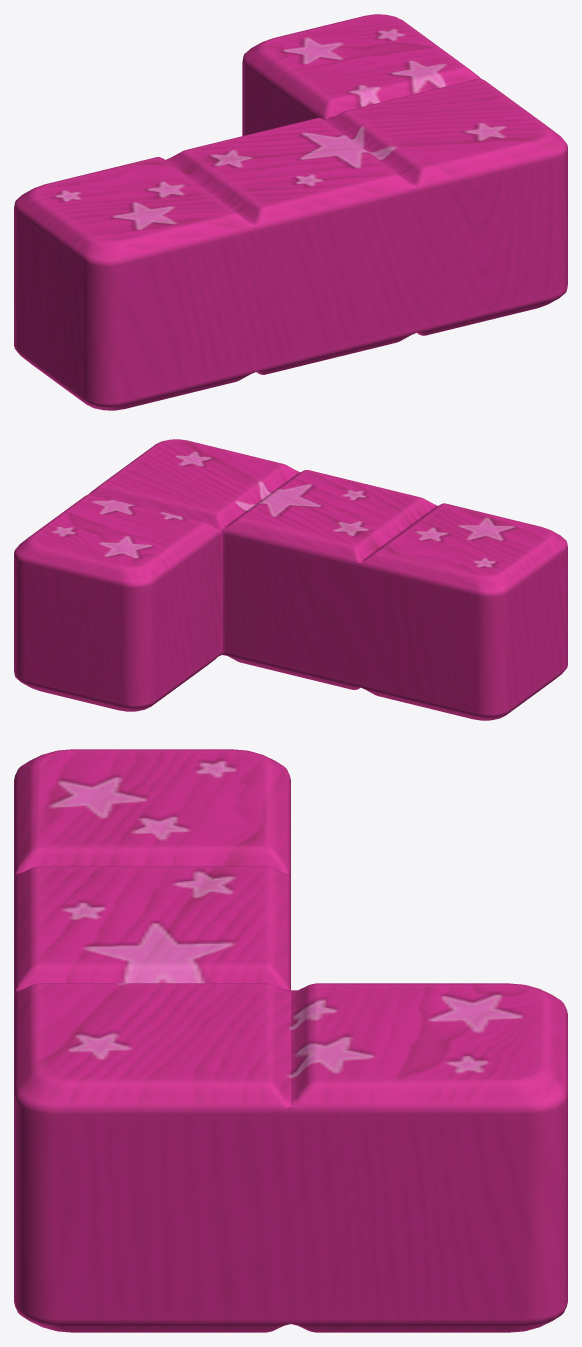
Rendered from Star_Block_06.fbx.
3 views of the same model, one above another, from view 1: azimuth 30°, elevation 25°; view 2: azimuth 150°, elevation 25°; view 3: azimuth 270°, elevation 25° (orthographic). The views are drawn at different scales.
Parts seen in each view (by area): view 1: Star_Block_06; view 2: Star_Block_06; view 3: Star_Block_06.
Part boxes in pixels (x1,y1,x2,y2): Star_Block_06: [14, 14, 567, 410]; Star_Block_06: [14, 439, 567, 720]; Star_Block_06: [14, 749, 567, 1332].
Size of the model in its own units: 3 by 1 by 2.
Materials: 1 (1 with a texture image).
